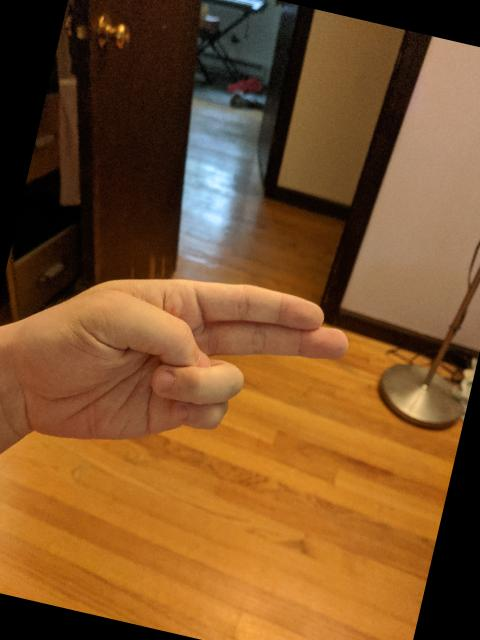H: (6, 234, 366, 503)
